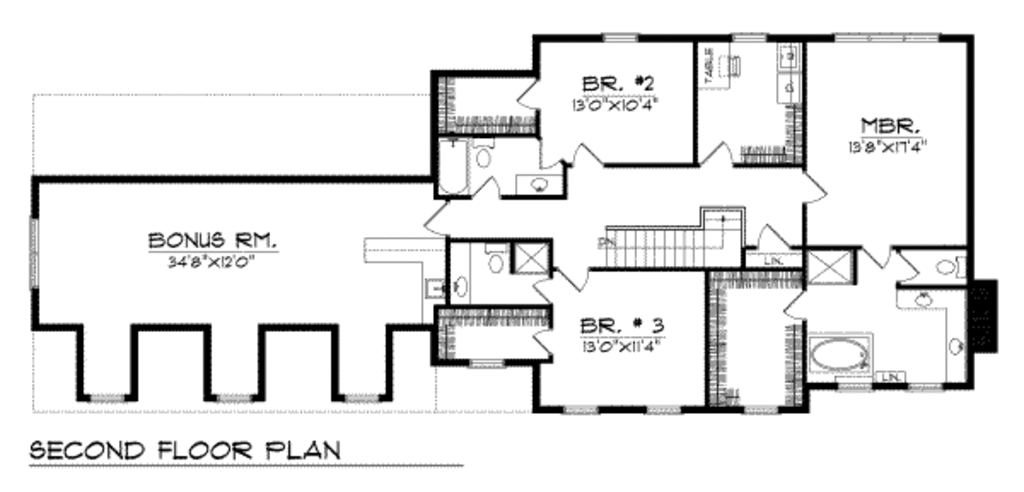door: (853, 238, 895, 273), (795, 169, 830, 207), (696, 137, 733, 171), (754, 220, 793, 252), (566, 139, 603, 169), (555, 262, 593, 290), (420, 201, 450, 236), (513, 79, 542, 113), (895, 248, 920, 285), (782, 288, 806, 326), (525, 325, 551, 360), (533, 277, 561, 307), (475, 176, 501, 202)
large_sink: (933, 251, 968, 284), (481, 243, 512, 277), (470, 137, 498, 174)
small_sink: (446, 239, 471, 309), (512, 171, 569, 195)
stairs: (597, 206, 748, 267)
tub: (806, 330, 874, 382), (435, 137, 472, 200)
windows: (27, 215, 41, 292), (551, 402, 605, 417), (740, 400, 779, 420), (212, 390, 253, 406), (82, 392, 128, 406), (640, 401, 685, 415), (339, 391, 380, 405)
